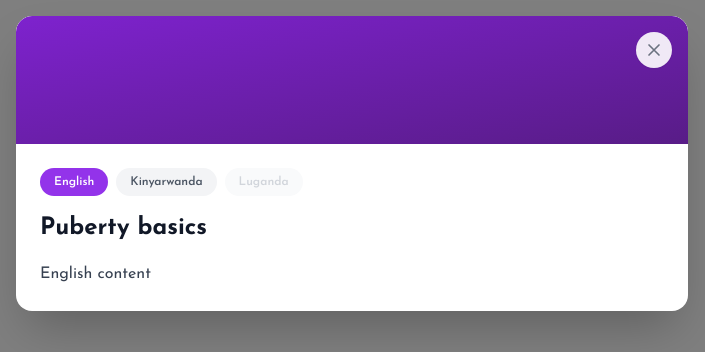
Test: ArticlePreviewModal › switches to another available language on tab click
Step 1. Click the button "Kinyarwanda" → x=166, y=182, box [116, 168, 217, 196]
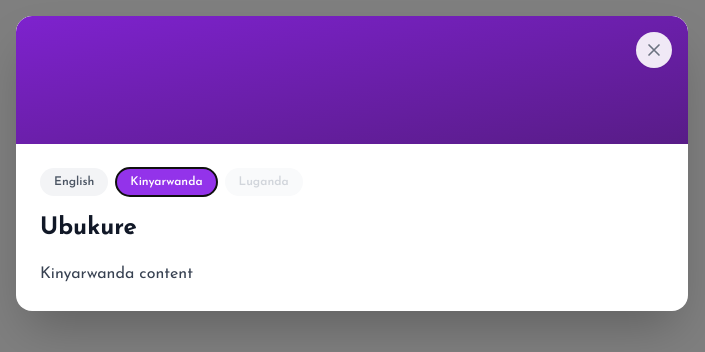
Expected: the heading "Ubukure" is shown, [40, 216, 137, 240]
Expected: the text "Kinyarwanda content" is shown, [40, 266, 193, 282]
